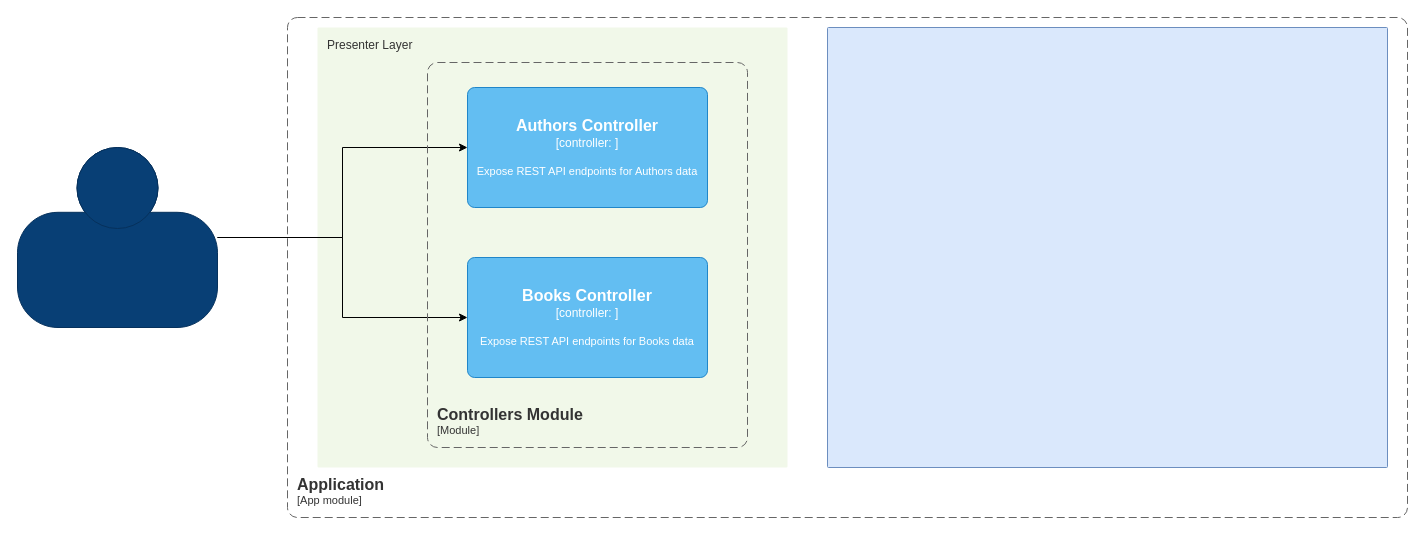
Some shapes in this 1425 by 535 pixel diagram are drawn without their labels. Each missing label, with the centre of its shape:
Domain layer: (1107,247)
User [Person]: (117,237)
